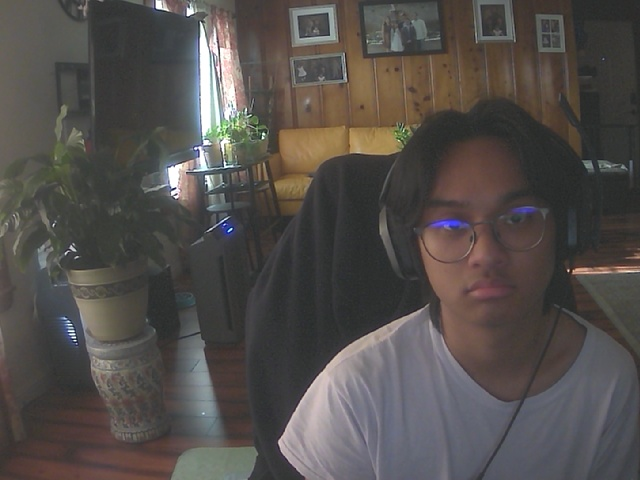neutral: (419, 132, 556, 325)
